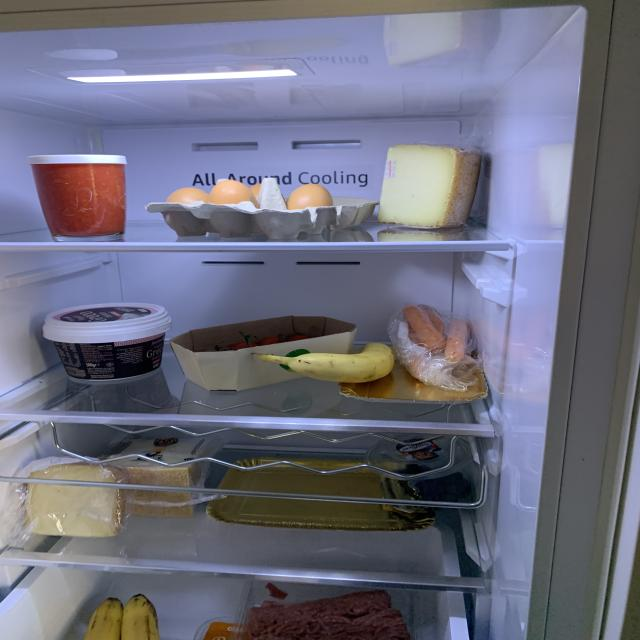banana: (251, 343, 401, 381), (85, 592, 158, 640)
blueberries: (382, 461, 479, 511)
carrots: (396, 304, 470, 382)
cherry_tomato: (191, 332, 328, 350)
eggs: (165, 180, 332, 210)
ground_beef: (251, 588, 413, 640)
mid_seasoned_cheese: (378, 142, 483, 229), (20, 464, 127, 537)
parmesan_cheese: (115, 436, 218, 514)
tomato_sauce: (27, 163, 127, 240)
yoghurt: (37, 301, 170, 383)
